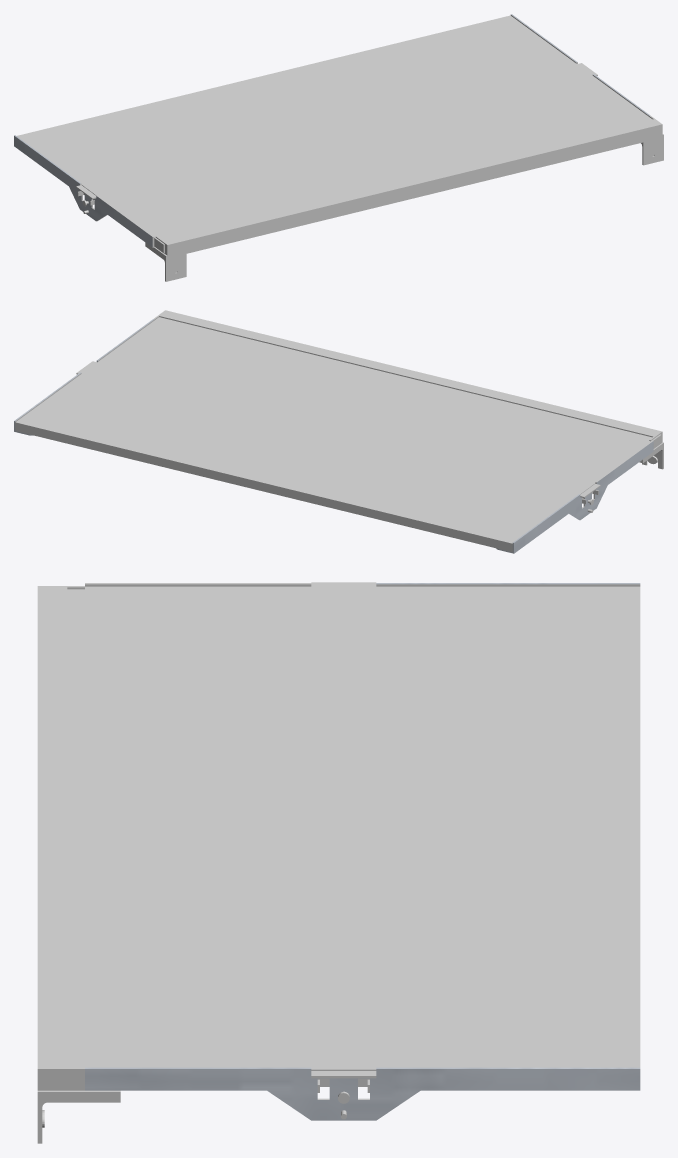
Rendered from JO-WOOD-TOP.glb.
3 views of the same model, one above another, from view 1: azimuth 30°, elevation 25°; view 2: azimuth 150°, elevation 25°; view 3: azimuth 270°, elevation 25° (orthographic). The views are drawn at different scales.
Parts seen in each view (by area): view 1: Geom3D_组件#16_层板（顶部） copy 001, Geom3D; view 2: Geom3D_组件#16_层板（顶部） copy 001, Geom3D; view 3: Geom3D_组件#16_层板（顶部） copy 001, Geom3D.
Boxes of the visible parts, x1,y1,x2,y2 form: Geom3D_组件#16_层板（顶部） copy 001: [17, 15, 663, 281]; Geom3D: [14, 14, 650, 247]; Geom3D_组件#16_层板（顶部） copy 001: [15, 310, 663, 552]; Geom3D: [14, 319, 653, 553]; Geom3D_组件#16_层板（顶部） copy 001: [37, 582, 640, 1143]; Geom3D: [85, 583, 640, 1120].
Bounding box in the file's own units: 0.985 × 0.068 × 0.5082.
1 material, 1 textured.
